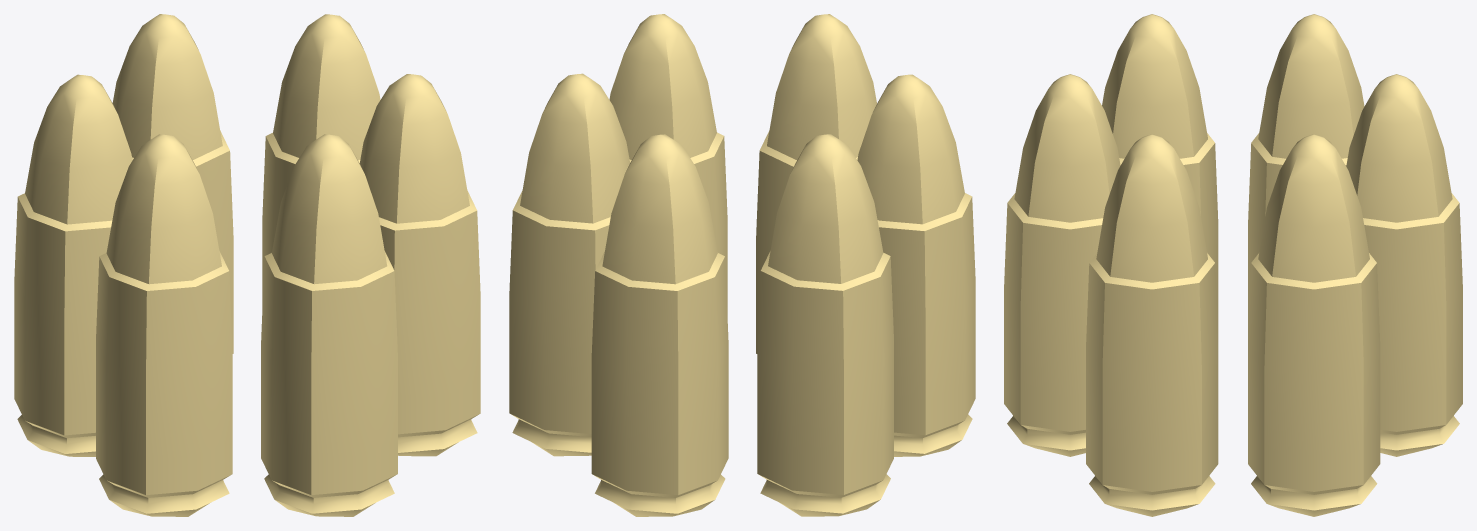
The model's file is item_revolver_ammo.glb.
3 views of the same model, side by side, from view 1: azimuth 30°, elevation 25°; view 2: azimuth 150°, elevation 25°; view 3: azimuth 270°, elevation 25° (orthographic).
Parts seen in each view (by area): view 1: Pickup_Bullets (×6); view 2: Pickup_Bullets (×6); view 3: Pickup_Bullets (×6).
Boxes of the visible parts, x1,y1,x2,y2 form: Pickup_Bullets (×6): (14, 14, 480, 516); Pickup_Bullets (×6): (509, 14, 975, 516); Pickup_Bullets (×6): (1004, 14, 1462, 516).
Bounding box in the file's own units: 0.0521 × 0.0505 × 0.0574.
